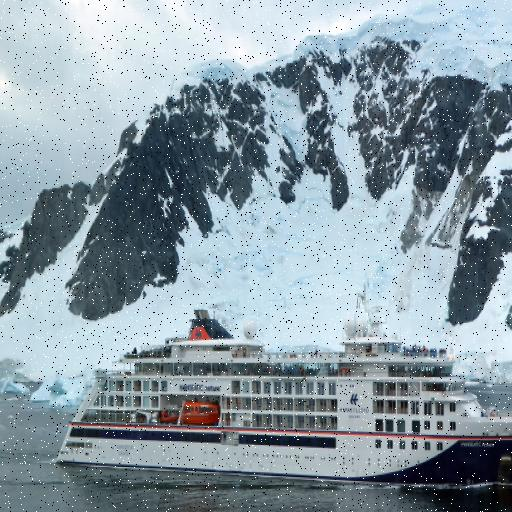cruises: (46, 304, 512, 496)
